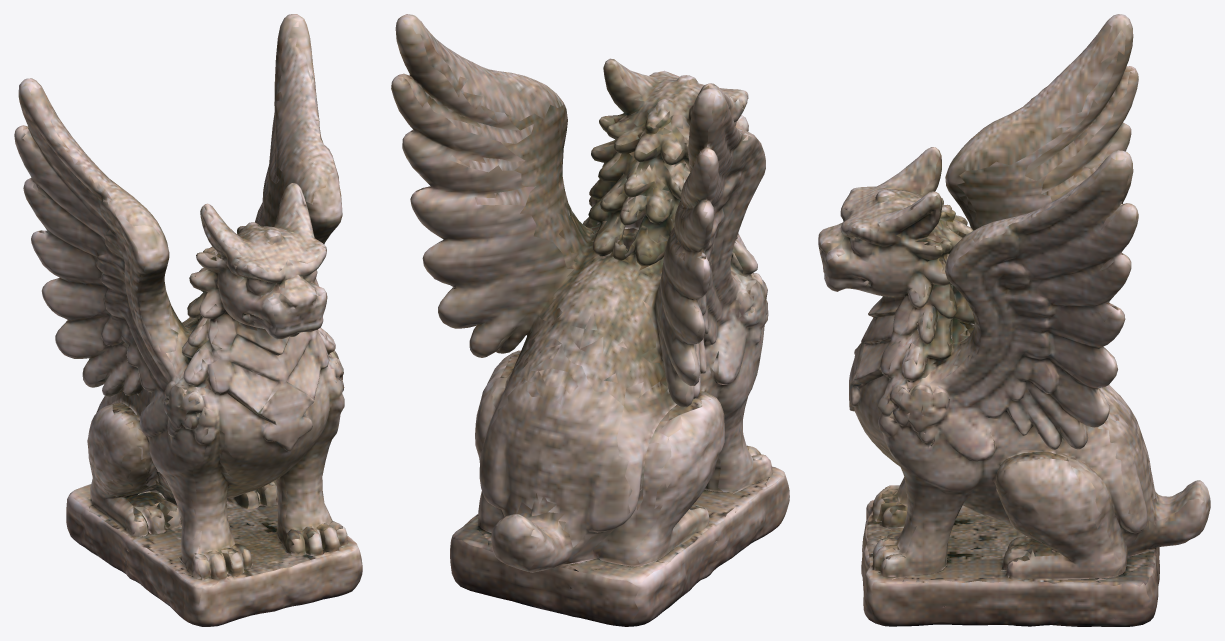
Rendered from gargoyle.glb.
3 renders of one model, left to right at view 1: azimuth 30°, elevation 25°; view 2: azimuth 150°, elevation 25°; view 3: azimuth 270°, elevation 25°, orthographic. The views are drawn at different scales.
Size of the model in its own units: 0.6267 by 1 by 0.7111.
Materials: 1 (1 with a texture image).
